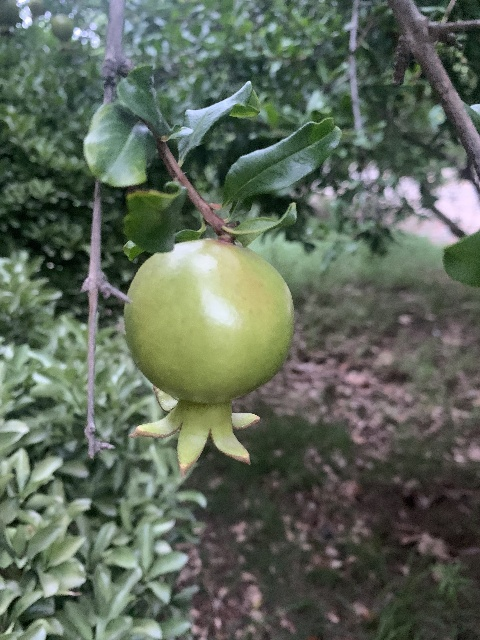mid-growth: (122, 239, 294, 476), (50, 15, 76, 50)
